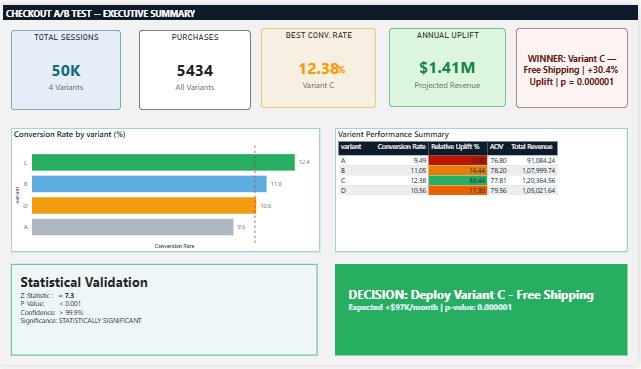

What the dashboard file says about the page in this screenshot:
{"tool":"powerbi","page":{"name":"Executive Summary","canvas":[1280,720],"ordinal":0},"visuals":[{"type":"shape","box":[10,0,1270,30],"z":0},{"type":"card","title":"TOTAL SESSIONS","fields":{"Values":["Measures (2).Total Sessions"]},"box":[26.7,50,220,160],"z":1000},{"type":"card","title":"PURCHASES","fields":{"Values":["Measures (2).Total Purchases"]},"box":[281.7,50,223.3,160],"z":2000},{"type":"card","title":"BEST CONV. RATE","fields":{"Values":["Measures (2).Conversion Rate"]},"box":[525,45,230,160],"z":3000},{"type":"card","fields":{"Values":["Measures (2).Winner Variant"]},"box":[1035,45,223.3,160],"z":4000},{"type":"clusteredBarChart","title":"Conversion Rate by variant (%)","fields":{"Category":["checkout_ab_test_data.variant"],"Y":["Measures (2).Conversion Rate"]},"box":[26.7,246.7,618.3,248.3],"z":5000},{"type":"tableEx","title":"Varient Performance Summary","fields":{"Values":["checkout_ab_test_data.variant","Measures (2).Conversion Rate","Measures (2).Relative Uplift %","Measures (2).AOV","Measures (2).Total Revenue"]},"box":[673.3,246.7,585,248.3],"z":6000},{"type":"shape","box":[673.3,518.3,585,183.3],"z":7000},{"type":"textbox","box":[695,556.7,518.3,115],"z":8000},{"type":"shape","box":[26.7,518.3,613.3,183.3],"z":9000},{"type":"textbox","box":[40,530,526.7,160],"z":10000},{"type":"textbox","box":[673.3,110,35,35],"z":11000},{"type":"card","title":"ANNUAL UPLIFT","fields":{"Values":["Measures (2).Annual Revenue Uplift"]},"box":[781.7,45,233.3,158.3],"z":12000}]}

Visuals, with their boxes in screenshot pixels (x1, y1, x2, y2), scaled from the page's 1280x720 canvas onto the 641x369 screenshot:
shape: (x1=5, y1=0, x2=640, y2=15)
"TOTAL SESSIONS" card: (x1=13, y1=26, x2=124, y2=108)
"PURCHASES" card: (x1=141, y1=26, x2=253, y2=108)
"BEST CONV. RATE" card: (x1=263, y1=23, x2=378, y2=105)
card - Measures (2).Winner Variant: (x1=518, y1=23, x2=630, y2=105)
"Conversion Rate by variant (%)" clusteredBarChart: (x1=13, y1=126, x2=323, y2=254)
"Varient Performance Summary" tableEx: (x1=337, y1=126, x2=630, y2=254)
shape: (x1=337, y1=266, x2=630, y2=360)
textbox: (x1=348, y1=285, x2=608, y2=344)
shape: (x1=13, y1=266, x2=320, y2=360)
textbox: (x1=20, y1=272, x2=284, y2=354)
textbox: (x1=337, y1=56, x2=355, y2=74)
"ANNUAL UPLIFT" card: (x1=391, y1=23, x2=508, y2=104)
